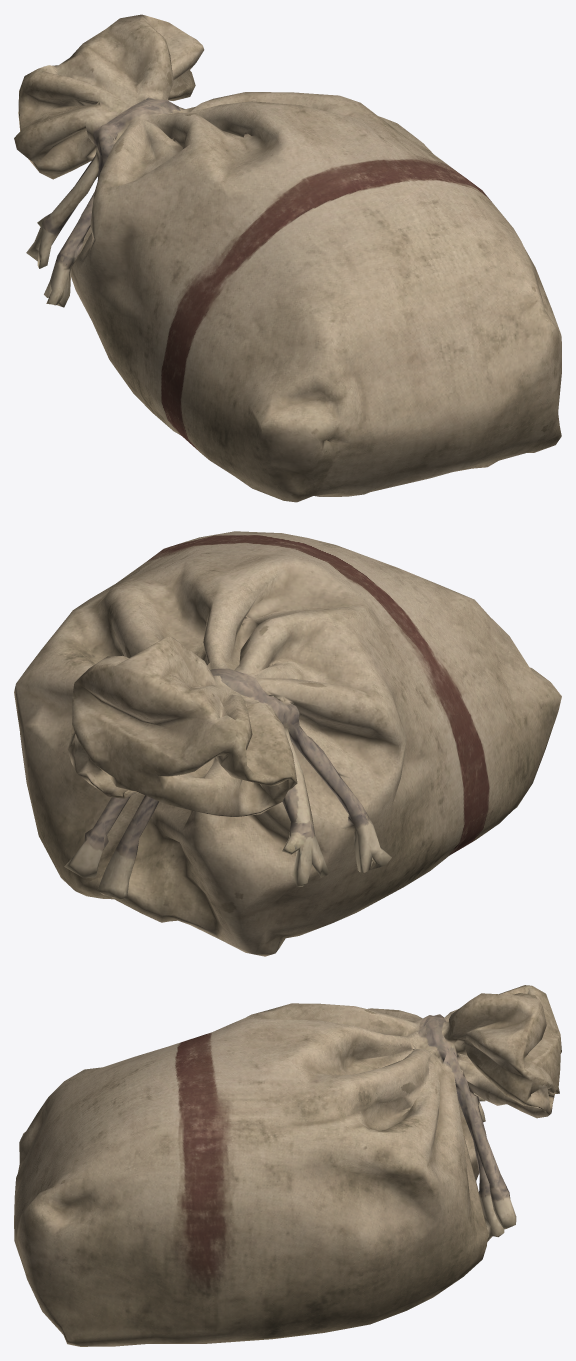
The model's file is dropped-bag.glb.
3 renders of one model, top to bottom at view 1: azimuth 30°, elevation 25°; view 2: azimuth 150°, elevation 25°; view 3: azimuth 270°, elevation 25°, orthographic. The views are drawn at different scales.
Size of the model in its own units: 0.7041 by 0.5612 by 0.9991.
Materials: 1 (1 with a texture image).
